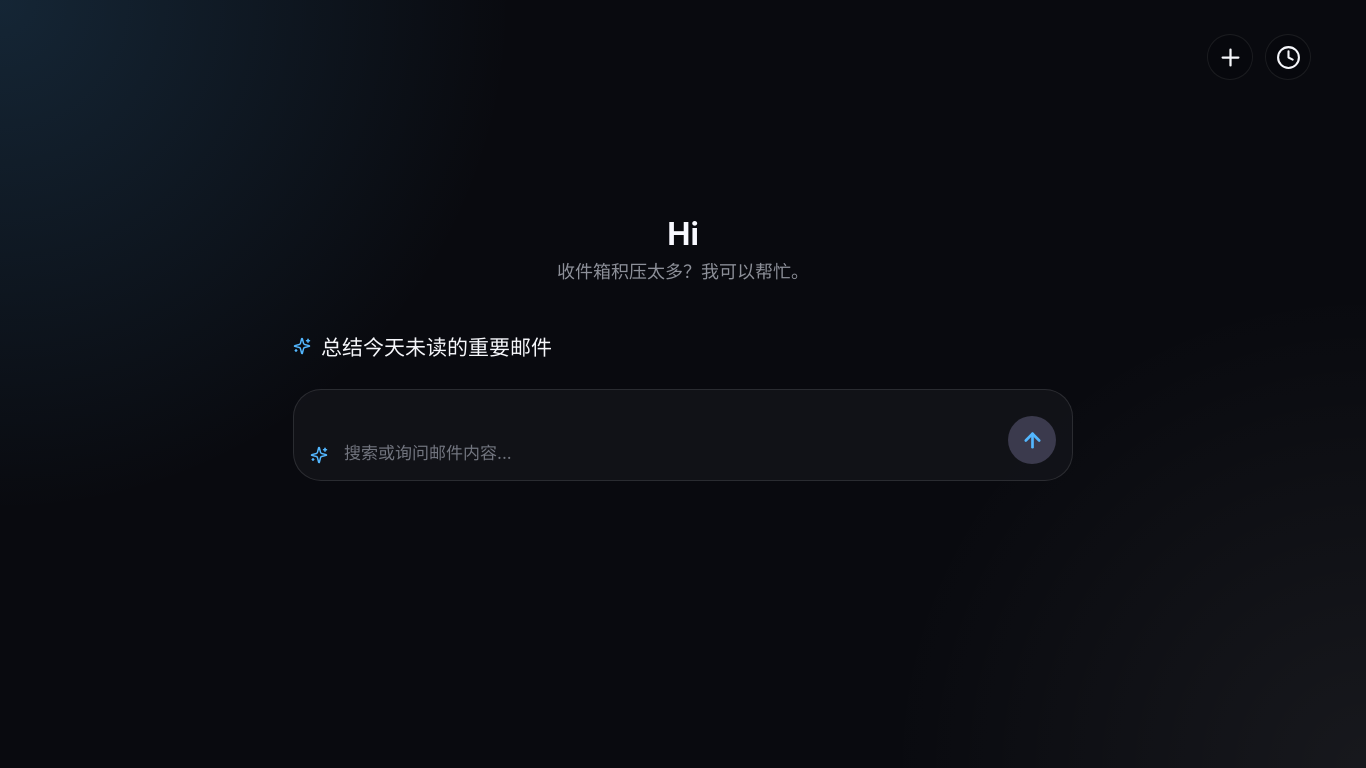
Test: AiScreen › appends user and assistant messages to the chat
Step 1. Type "今天需要回复的邮件" into the field with placeholder "搜索或询问邮件内容..." → (670, 453), box [342,442,998,464]
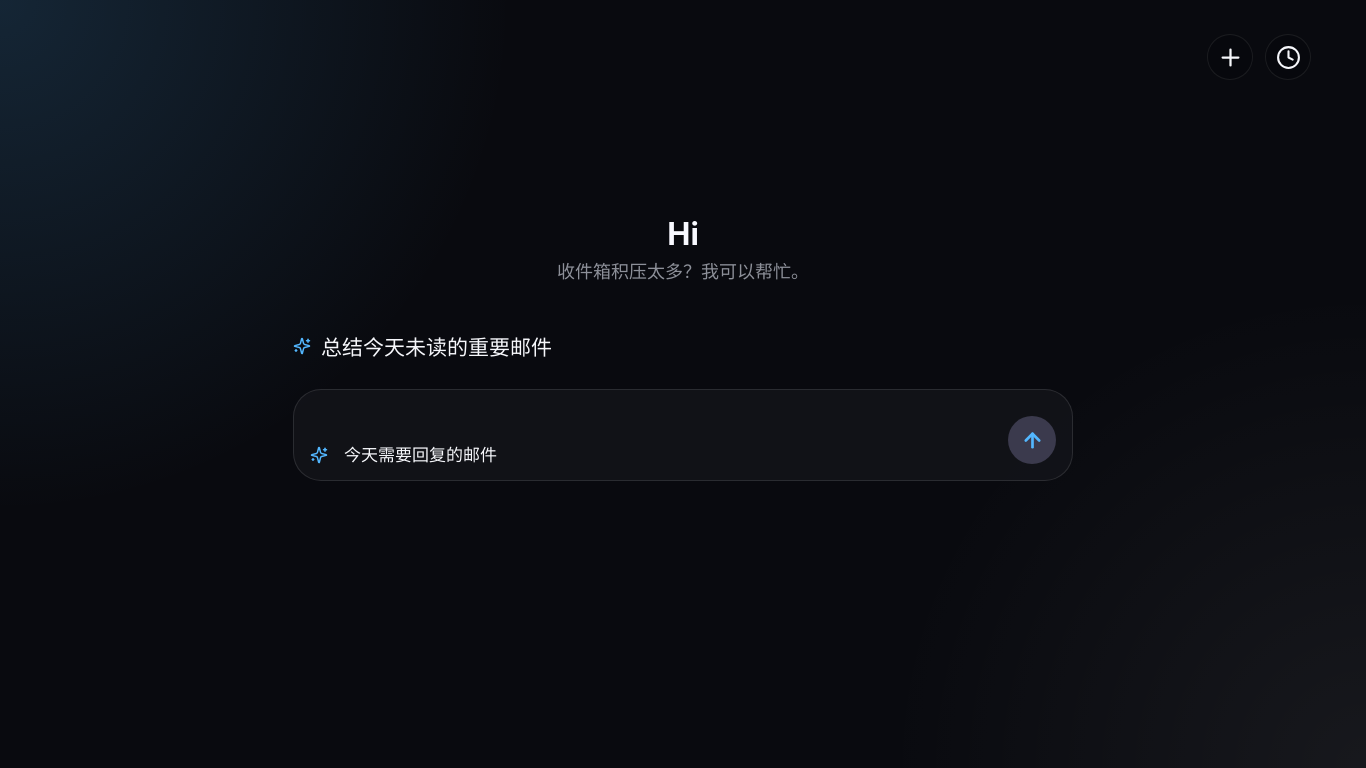
Step 2. Click the button named "发送" → (1032, 440), box [1008,416,1056,464]
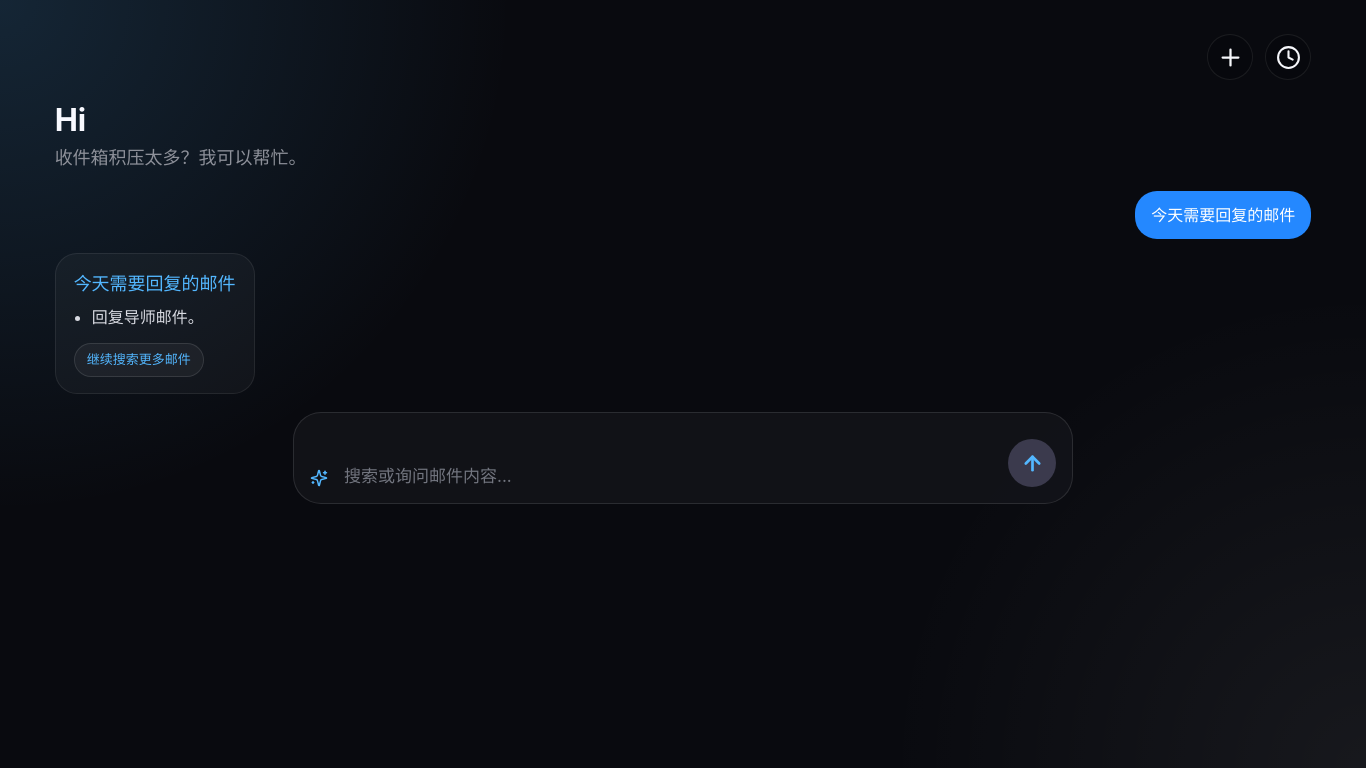
Expected: the text "今天需要回复的邮件" is shown, [1151,203,1295,227]
Expected: the text "回复导师邮件。" is shown, [92,307,204,327]
